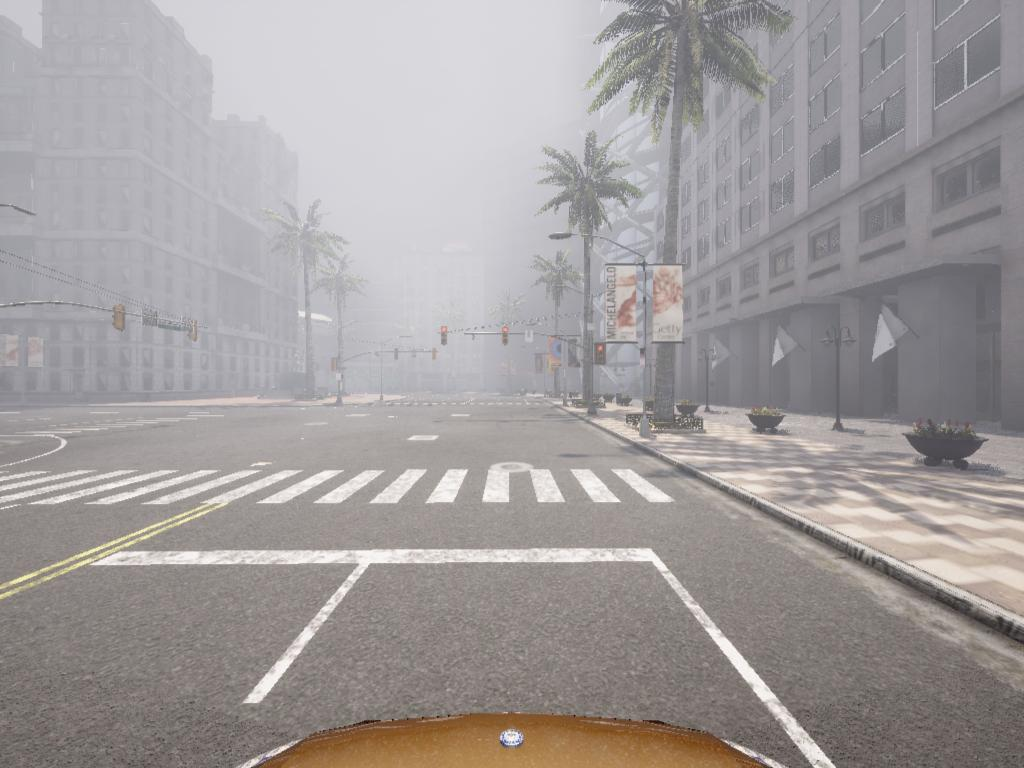traffic_light: (111, 308, 125, 331), (597, 347, 608, 366), (192, 323, 202, 343), (502, 327, 511, 346), (332, 358, 340, 375), (441, 328, 449, 343), (394, 348, 401, 364), (433, 348, 439, 361)
